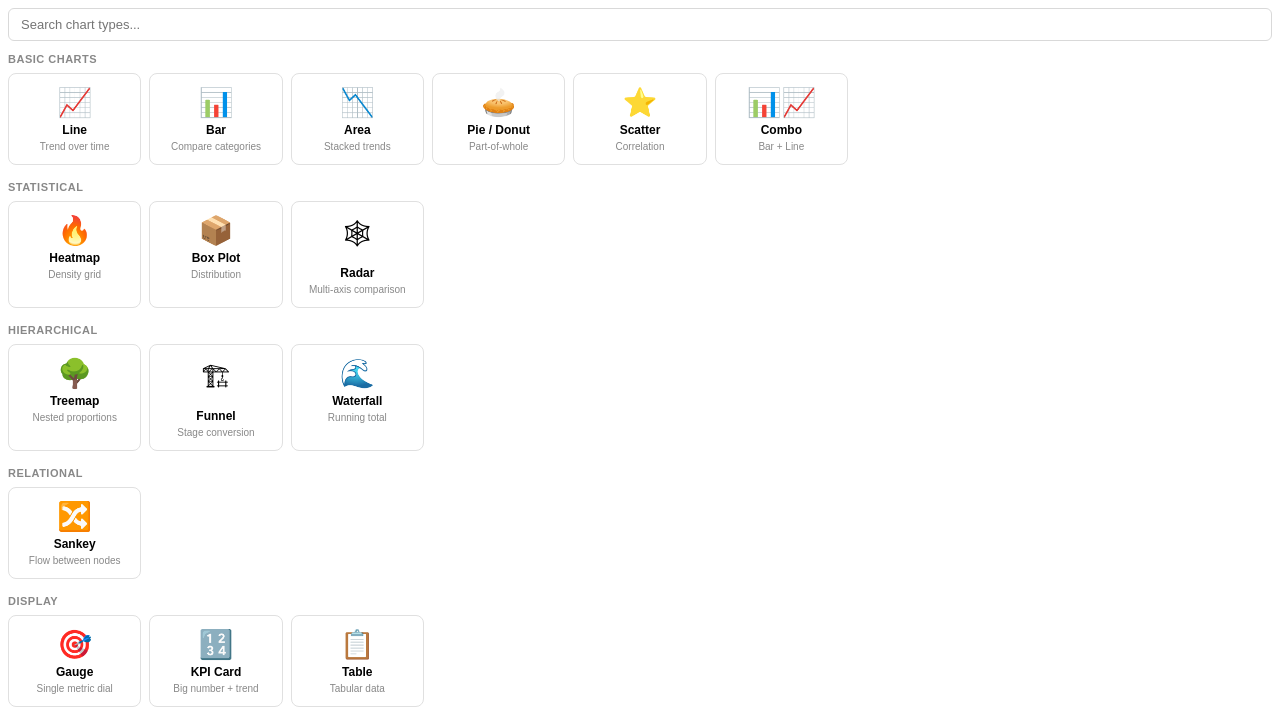
it: ChartTypePicker › shows "no match" when search has no results
Type "zzzzz" into the field with test id "chart-search" at (640, 24), box [8,8,1272,41]
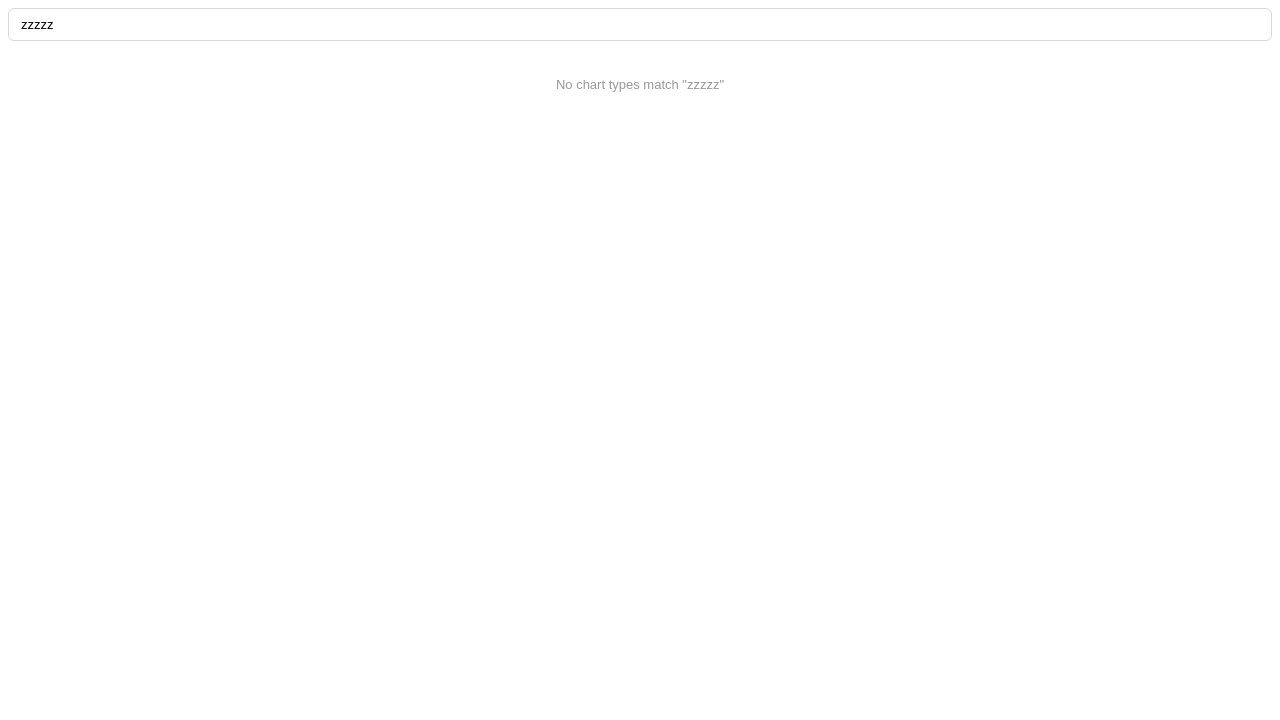
Expected: the text "No chart types match \"zzzzz\"" is shown, [556,77,724,92]
